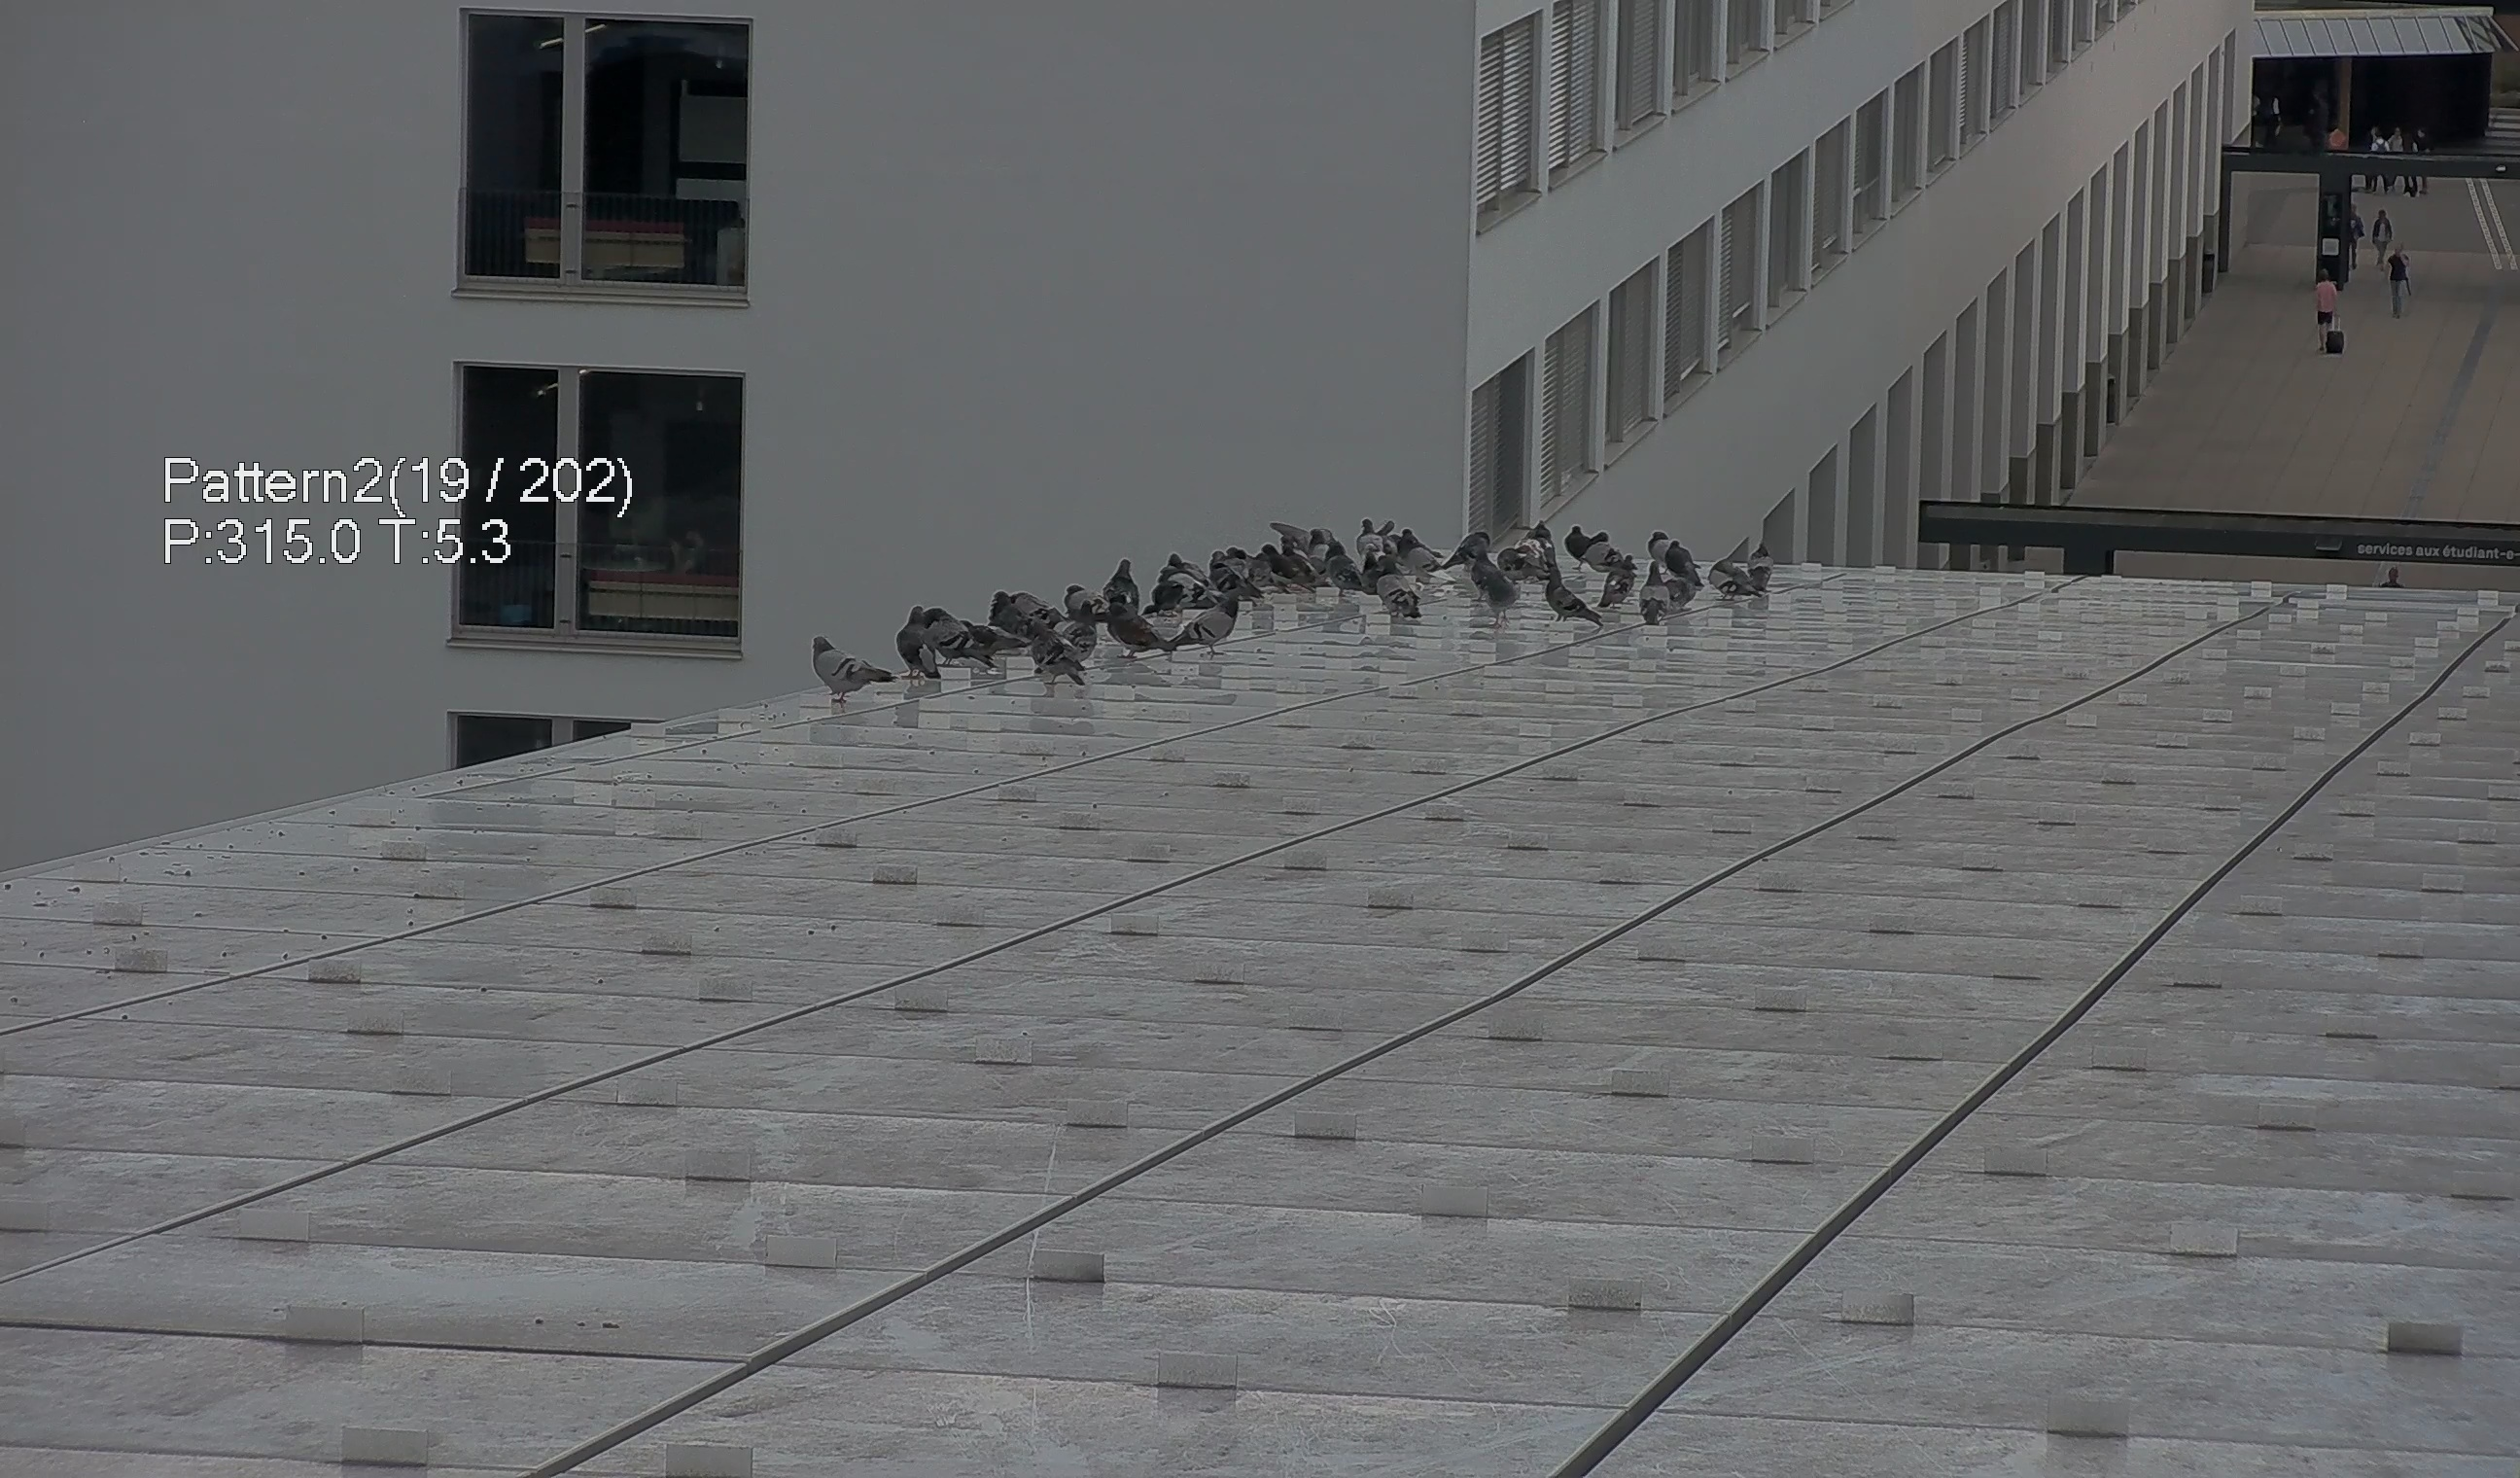Pigeon: (793, 621, 900, 713), (1018, 618, 1089, 695), (1101, 591, 1169, 669), (890, 602, 950, 690), (923, 604, 1001, 665), (1178, 586, 1238, 660), (1470, 544, 1525, 616), (1584, 549, 1635, 621), (1377, 549, 1428, 621), (1542, 565, 1597, 632), (1060, 570, 1122, 626), (1438, 524, 1498, 575), (1398, 540, 1458, 591), (1155, 560, 1219, 607), (1706, 556, 1762, 602), (1664, 538, 1708, 595), (1514, 521, 1558, 575), (1739, 535, 1781, 589), (1639, 560, 1669, 625), (987, 588, 1032, 630), (1558, 523, 1595, 561), (1351, 512, 1389, 545), (1642, 516, 1669, 563)
